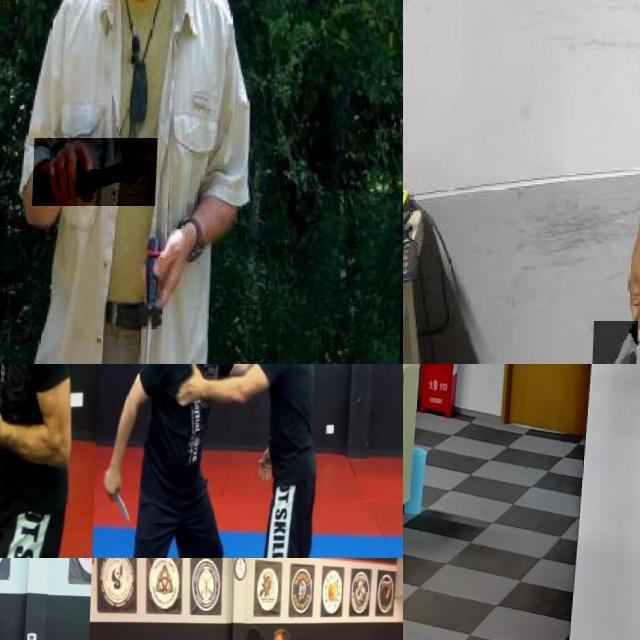-: (35, 138, 160, 206), (593, 320, 640, 364), (100, 466, 134, 524), (0, 364, 18, 470)
gun-knife-thesis - v11 Yolov5 augmented: (403, 364, 433, 405)
